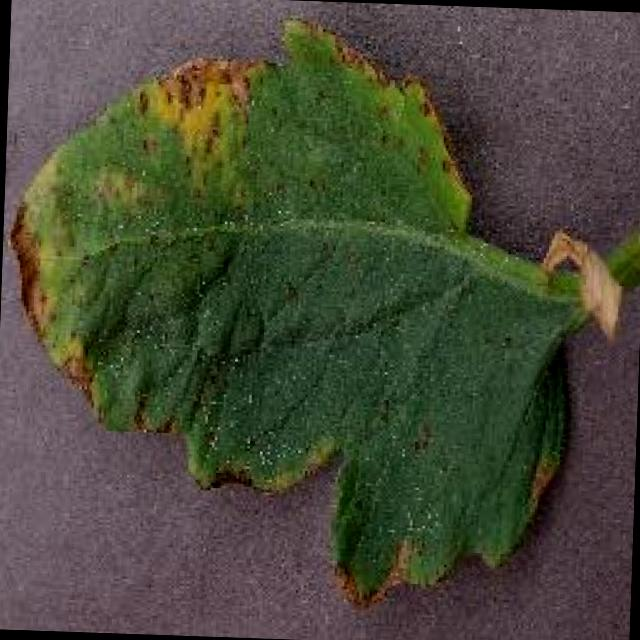bacterial spot: (18, 11, 640, 607)
